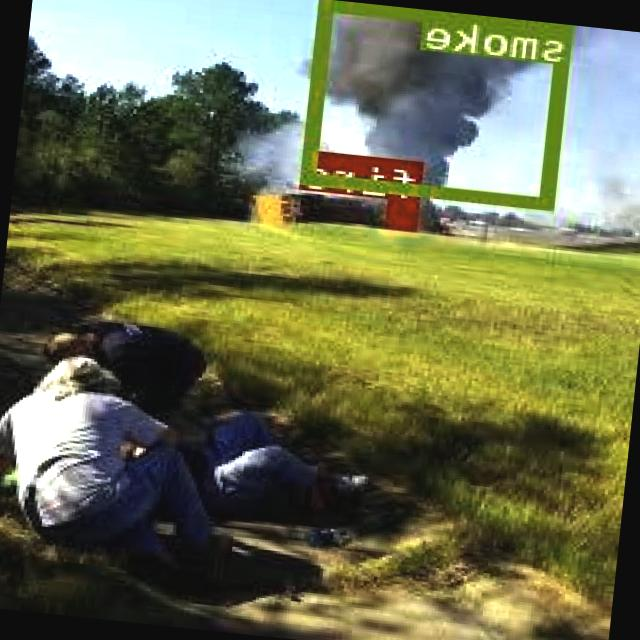fire: (388, 198, 422, 228)
smoke: (304, 0, 575, 206)
